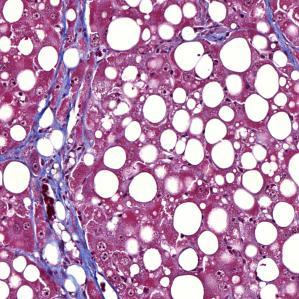fibrosis: (11, 88, 89, 174), (29, 205, 108, 284)
